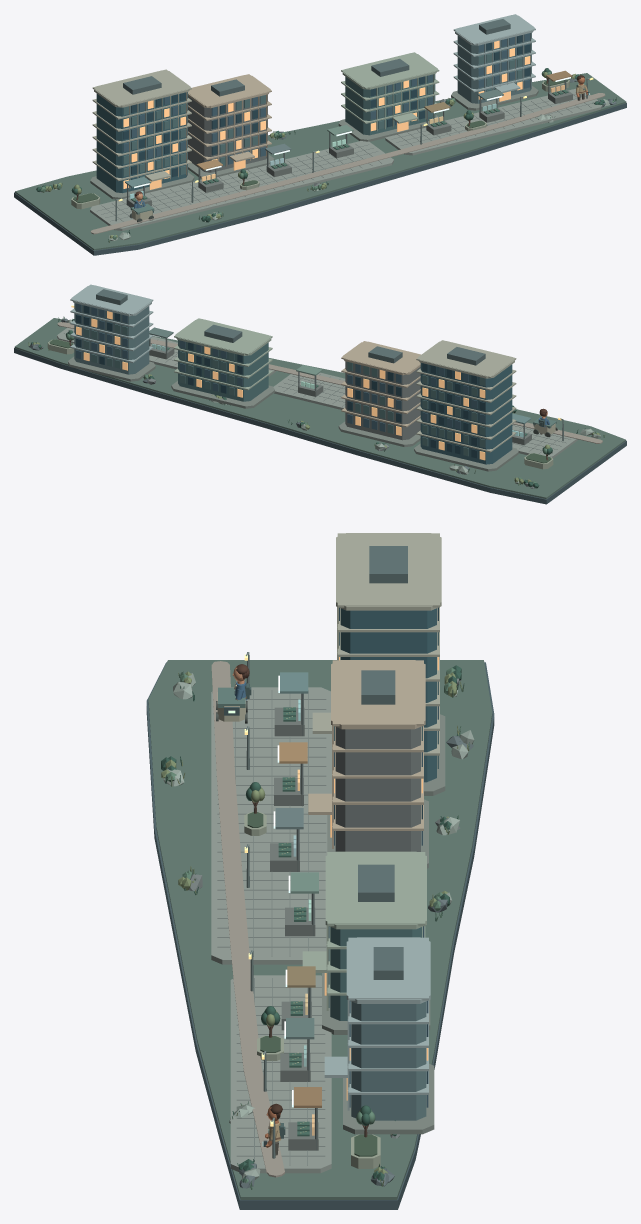
The model's file is shenzhen.glb.
3 views of the same model, one above another, from view 1: azimuth 30°, elevation 25°; view 2: azimuth 150°, elevation 25°; view 3: azimuth 270°, elevation 25° (orthographic). The views are drawn at different scales.
Visible parts, largest first — view 1: TerrainAndBuildings; view 2: TerrainAndBuildings; view 3: TerrainAndBuildings, CampusDeliveryRobot.
Part boxes in pixels (bbox=[...]): TerrainAndBuildings: bbox=[14, 14, 626, 255]; TerrainAndBuildings: bbox=[14, 284, 626, 504]; TerrainAndBuildings: bbox=[146, 533, 494, 1209]; CampusDeliveryRobot: bbox=[216, 687, 247, 723].
Bounding box in the file's own units: 1.73 × 0.3191 × 0.4717.
